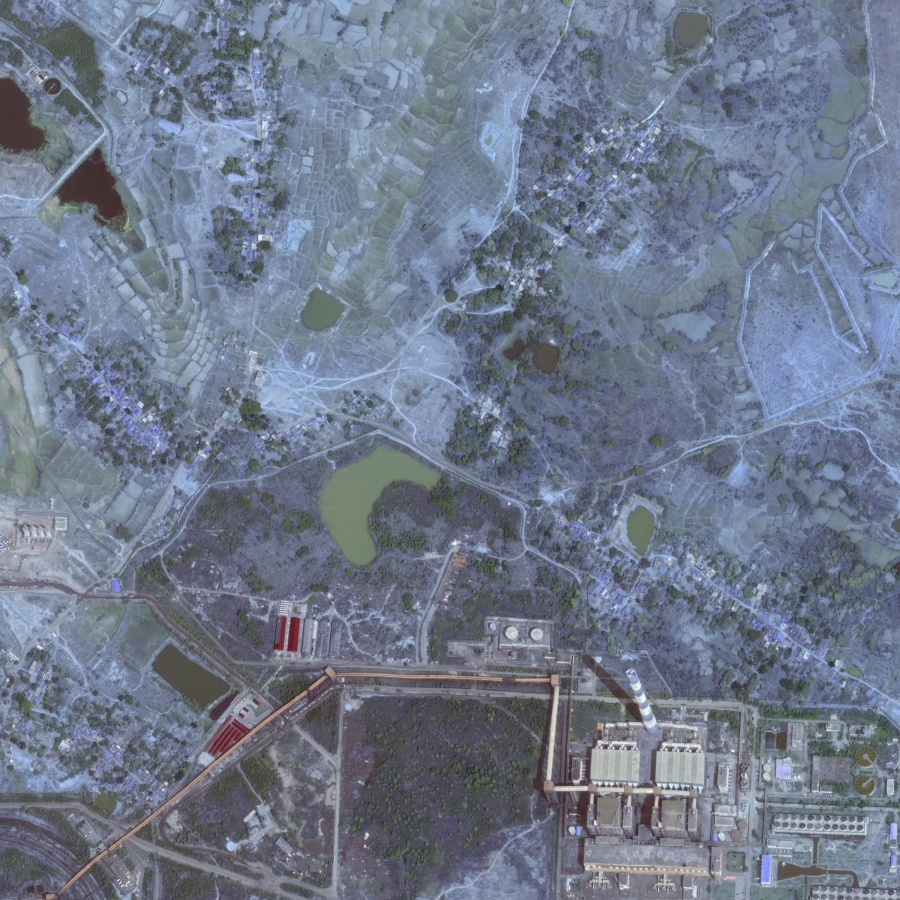PowerPlant: (557, 629, 711, 762)
